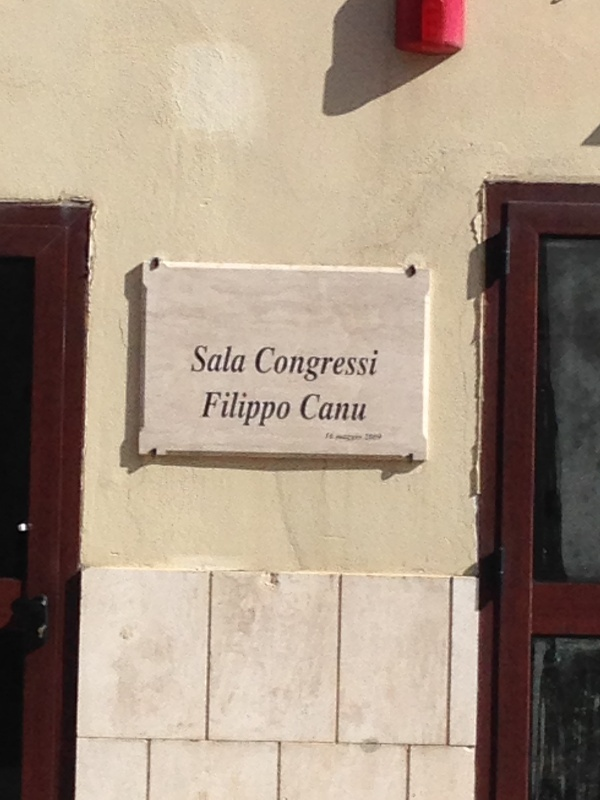text: (273, 346, 288, 389), (289, 346, 304, 389), (305, 346, 320, 389), (321, 346, 336, 389), (337, 346, 352, 389), (353, 346, 368, 389), (209, 388, 224, 431), (225, 388, 240, 431), (241, 388, 256, 431), (257, 388, 272, 431), (273, 388, 288, 431), (369, 346, 382, 389), (209, 342, 224, 378), (225, 342, 240, 378), (194, 342, 208, 378), (305, 392, 320, 424), (321, 392, 336, 424), (337, 392, 352, 424), (353, 392, 368, 424), (261, 346, 272, 389), (241, 342, 250, 378), (289, 388, 296, 431), (337, 431, 352, 444), (353, 431, 368, 444), (369, 431, 382, 444), (326, 431, 336, 444), (206, 388, 208, 431), (369, 392, 371, 424), (303, 392, 304, 424)
